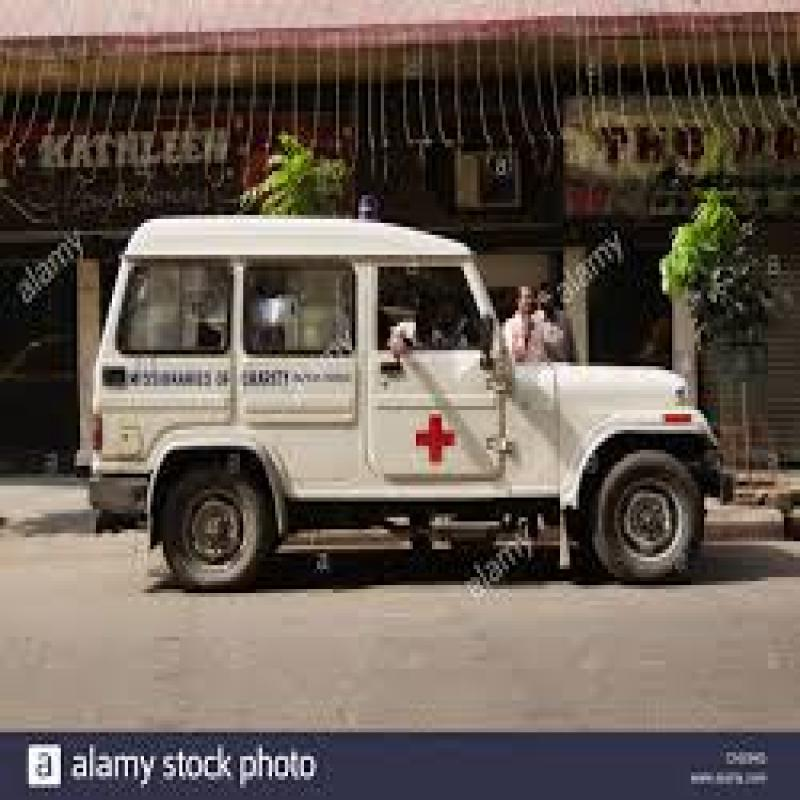ambulance: (92, 229, 676, 602)
